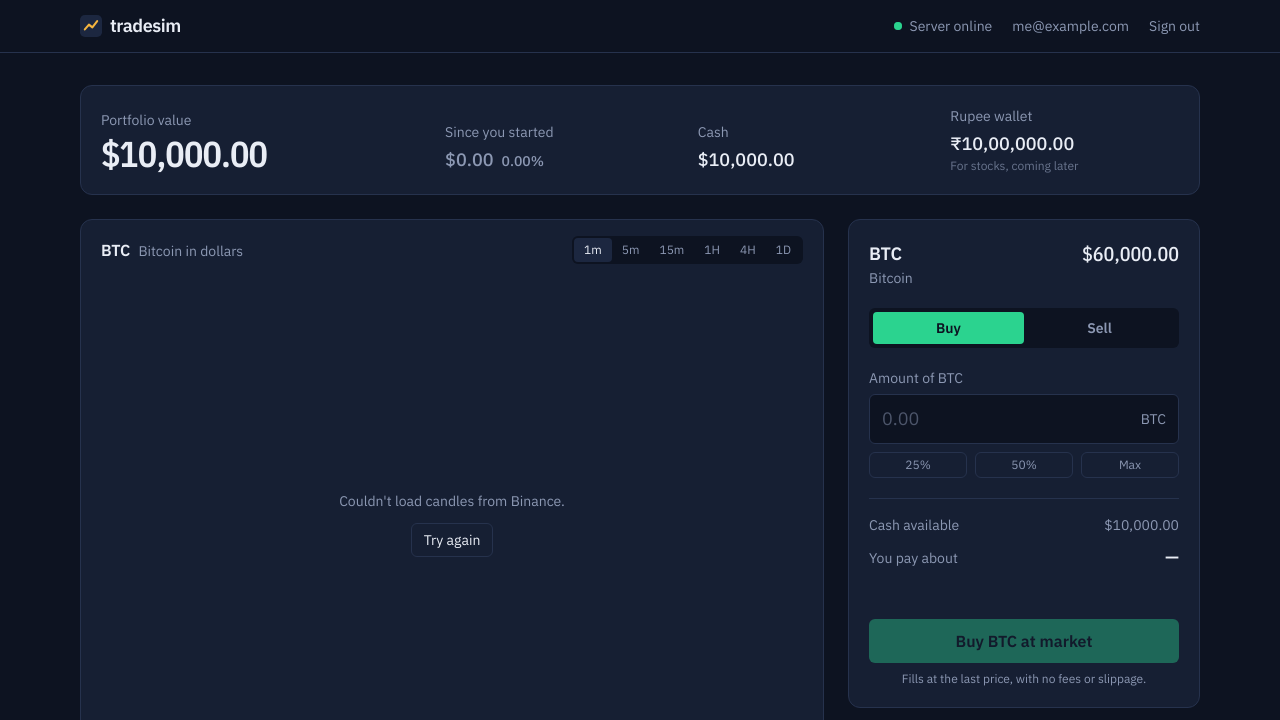
it: after a lost connection, pressing again reuses the same key so it can't order twice
Later steps or results of the test are not shown.
Type "0.05" into the field labelled "Amount of BTC BTC".
click(1005, 419); type("0.05")  # box [870,395,1141,443]
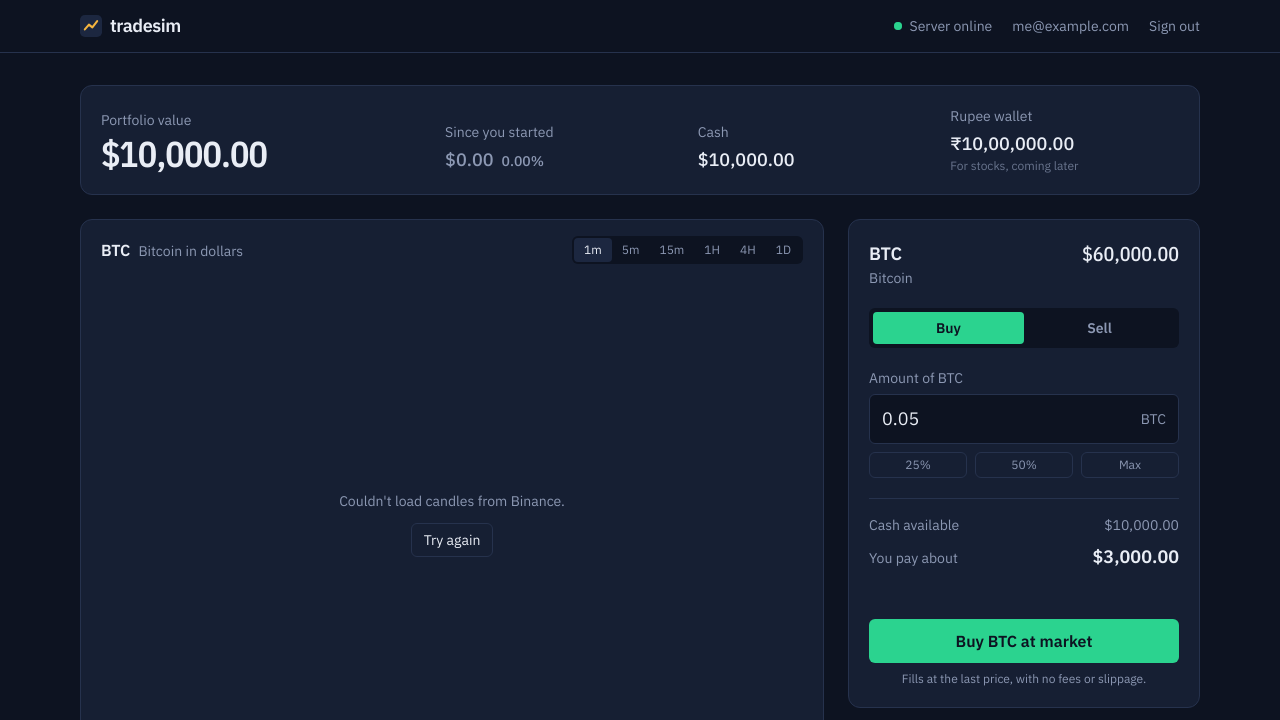
Click the button "Buy BTC at market".
click(1024, 641)  # box [869,619,1179,663]
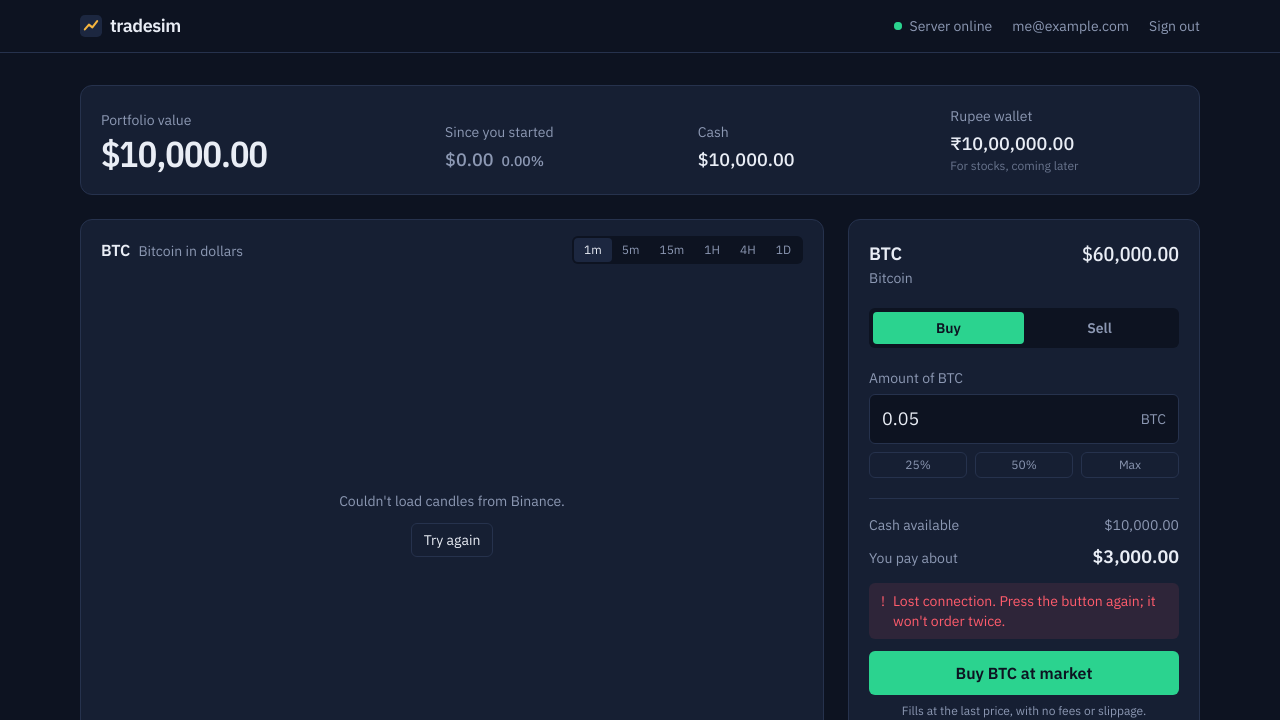
Expected: the message "! Lost connection. Press the button again; it won't order twice." is shown, [869,583,1179,639]
